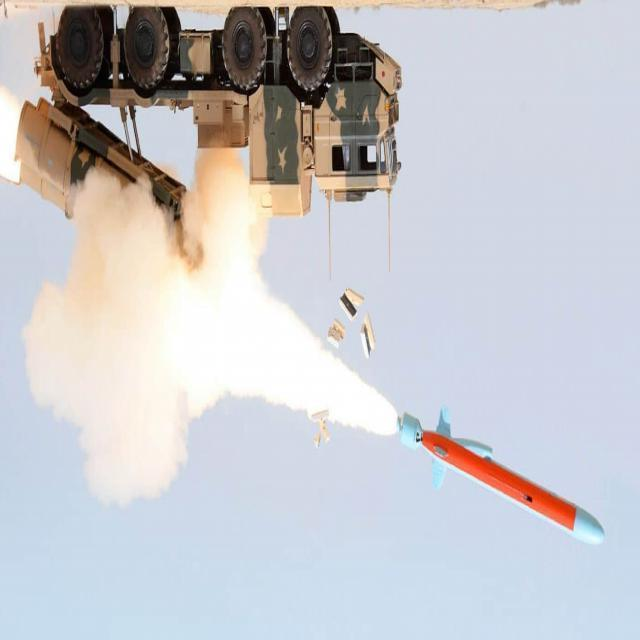missile: (387, 400, 606, 554)
